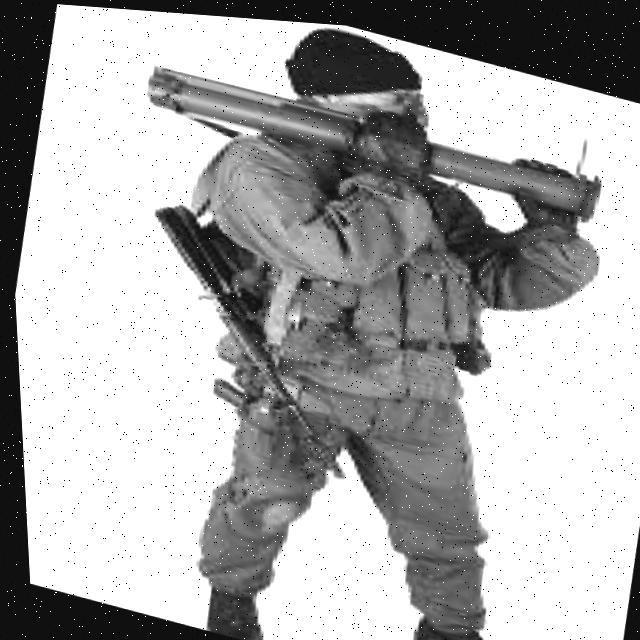rocket: (136, 48, 611, 240)
